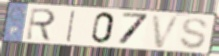0: (90, 12, 116, 46)
7: (119, 12, 151, 48)
I: (65, 9, 78, 43)
R: (24, 7, 58, 42)
S: (178, 17, 210, 51)
V: (151, 14, 183, 49)
